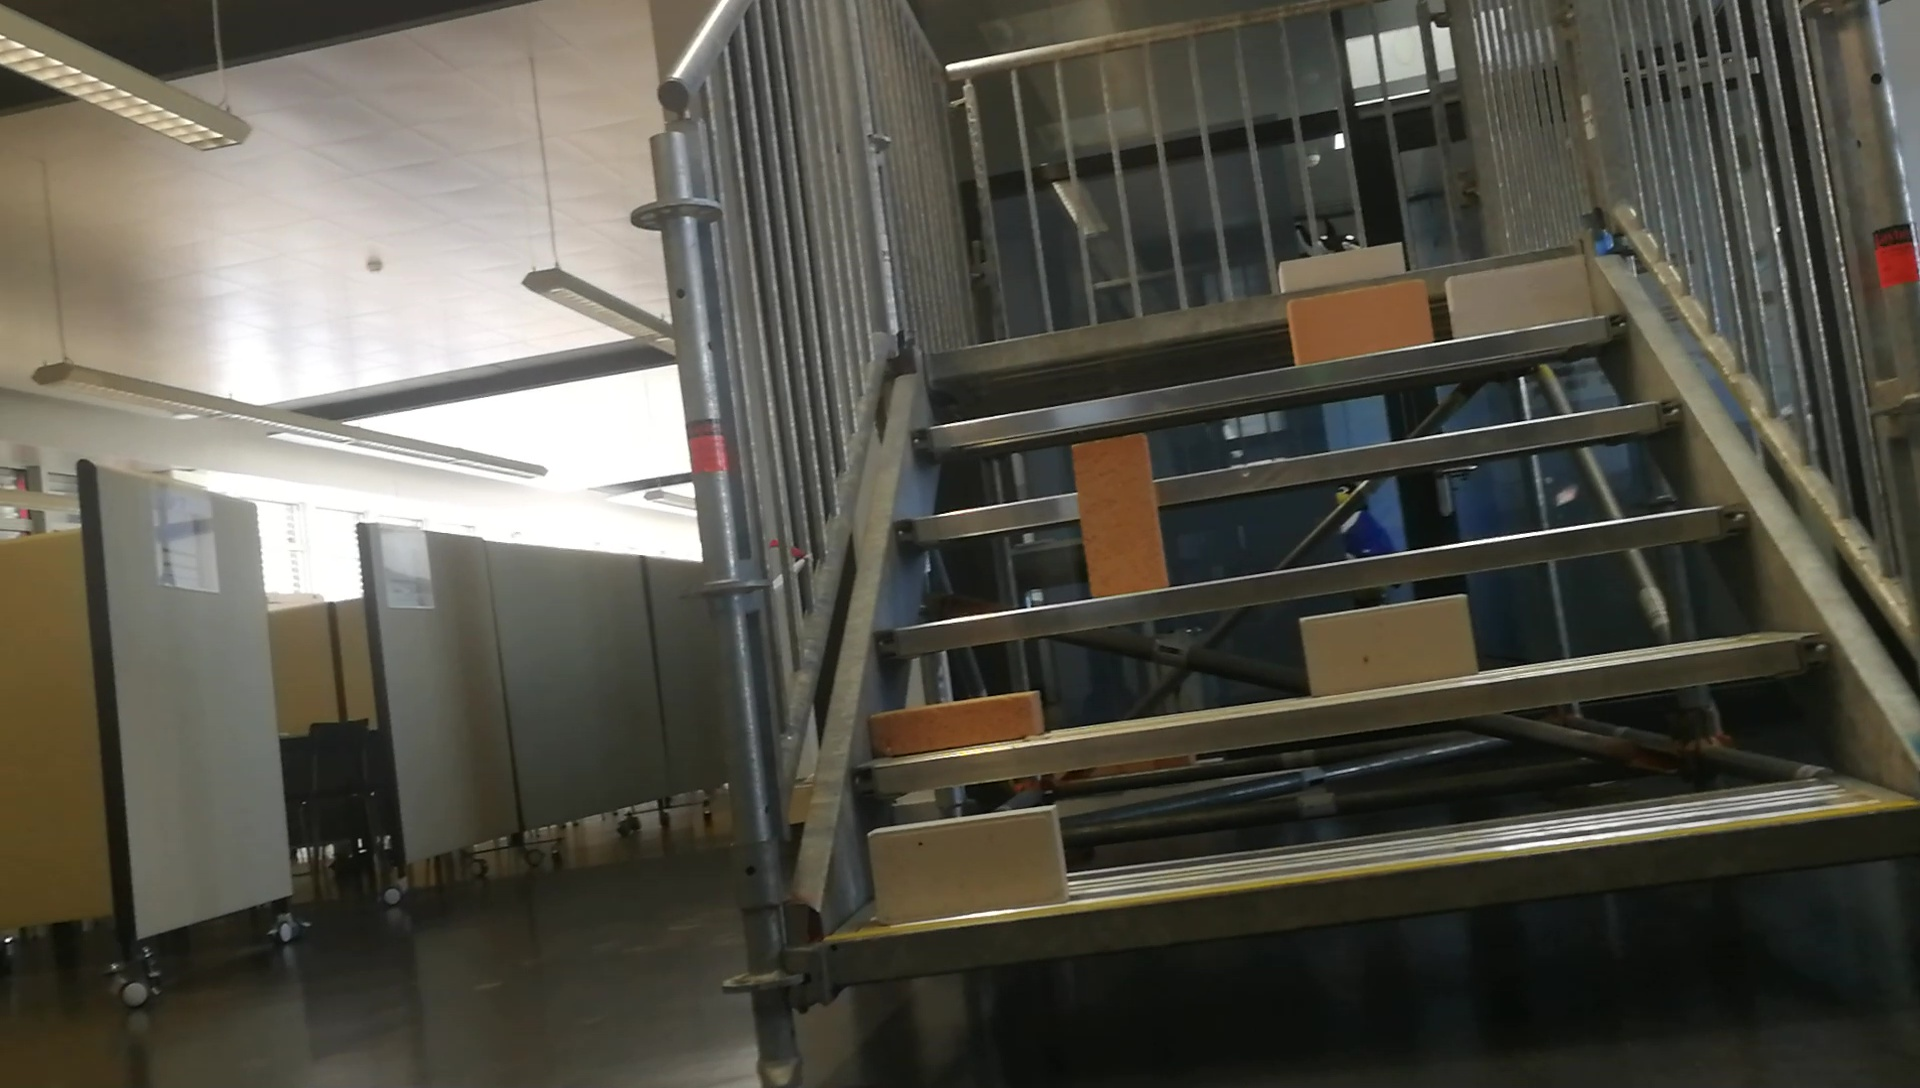brick: (872, 810, 1060, 921), (1302, 597, 1474, 695), (1069, 438, 1167, 595), (1447, 256, 1585, 340), (1287, 285, 1428, 360), (873, 692, 1036, 754), (1283, 243, 1399, 285)
edge: (823, 801, 1913, 977), (855, 625, 1832, 793), (876, 502, 1749, 666), (893, 400, 1683, 547), (913, 313, 1625, 448)
stairs: (628, 3, 1920, 1083)
steps: (796, 233, 1917, 1012)
